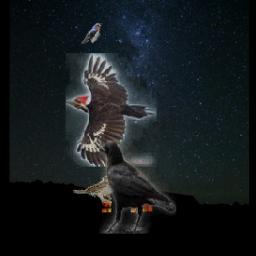Crow: (99, 141, 176, 234)
Sparrow: (73, 175, 116, 203)
Swallow: (81, 23, 100, 45)
Woodpecker: (65, 53, 156, 167)
